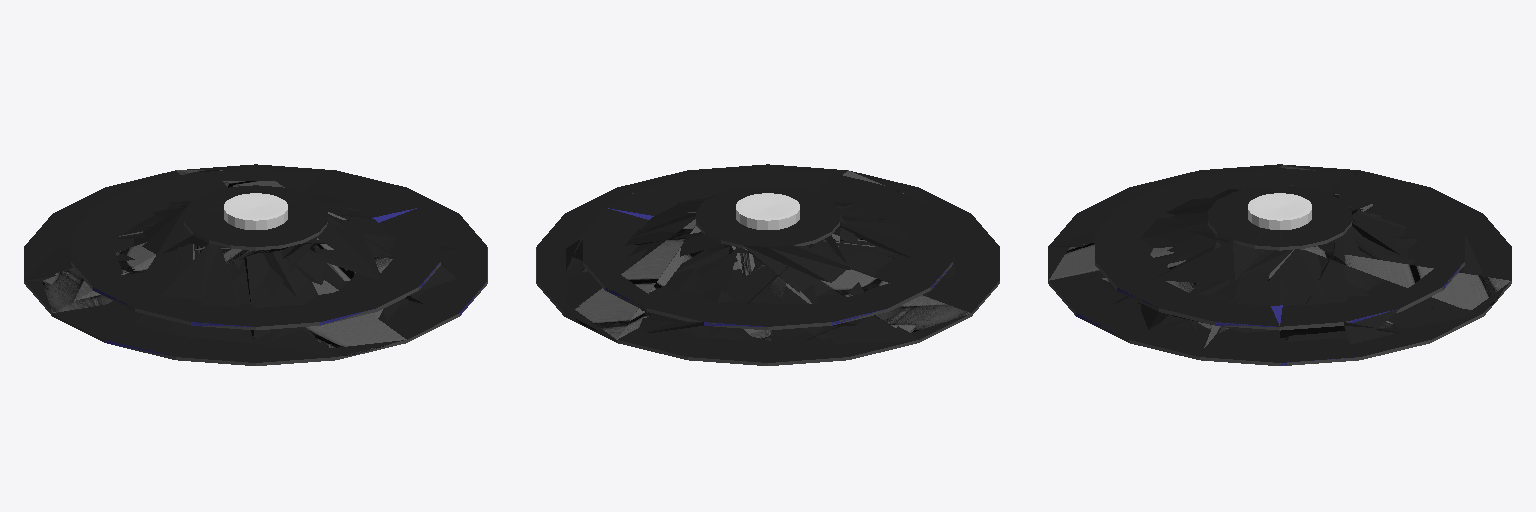
3 views of the same model, side by side, from view 1: azimuth 30°, elevation 25°; view 2: azimuth 150°, elevation 25°; view 3: azimuth 270°, elevation 25° (orthographic).
Visible parts, largest first — view 1: Inside_scifi_structure_Dish, Scifi_structure_Dish; view 2: Inside_scifi_structure_Dish, Scifi_structure_Dish; view 3: Inside_scifi_structure_Dish, Scifi_structure_Dish.
Part boxes in pixels (left/top/right/bottom): Inside_scifi_structure_Dish: left=24, top=164, right=487, bottom=365; Scifi_structure_Dish: left=25, top=164, right=484, bottom=359; Inside_scifi_structure_Dish: left=536, top=164, right=999, bottom=365; Scifi_structure_Dish: left=564, top=170, right=970, bottom=343; Inside_scifi_structure_Dish: left=1048, top=164, right=1511, bottom=365; Scifi_structure_Dish: left=1049, top=164, right=1510, bottom=365.
Bounding box in the file's own units: 7.38 × 1.7 × 7.26.
10 materials, 3 textured.